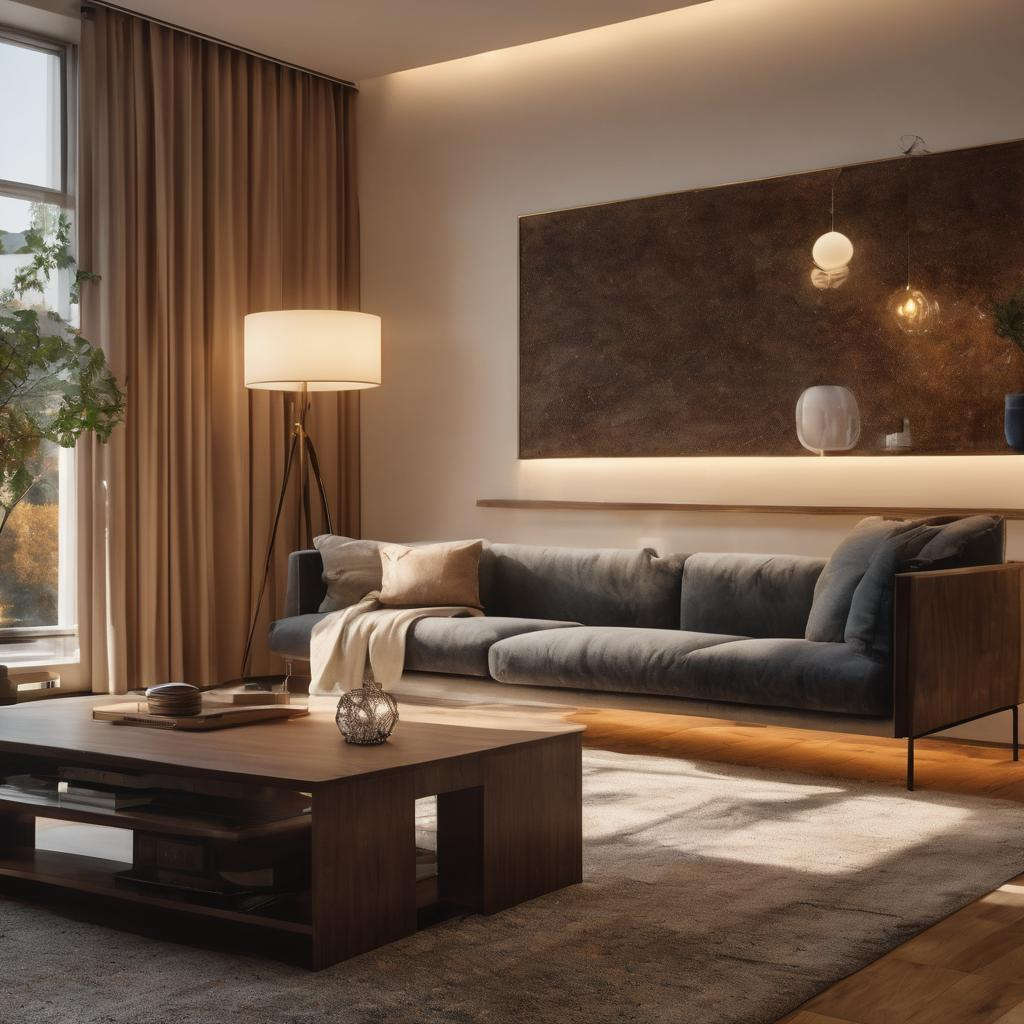light: (245, 305, 393, 691), (883, 150, 941, 342), (809, 171, 855, 280)
sofa: (282, 497, 1024, 793)
table: (5, 677, 589, 978)
